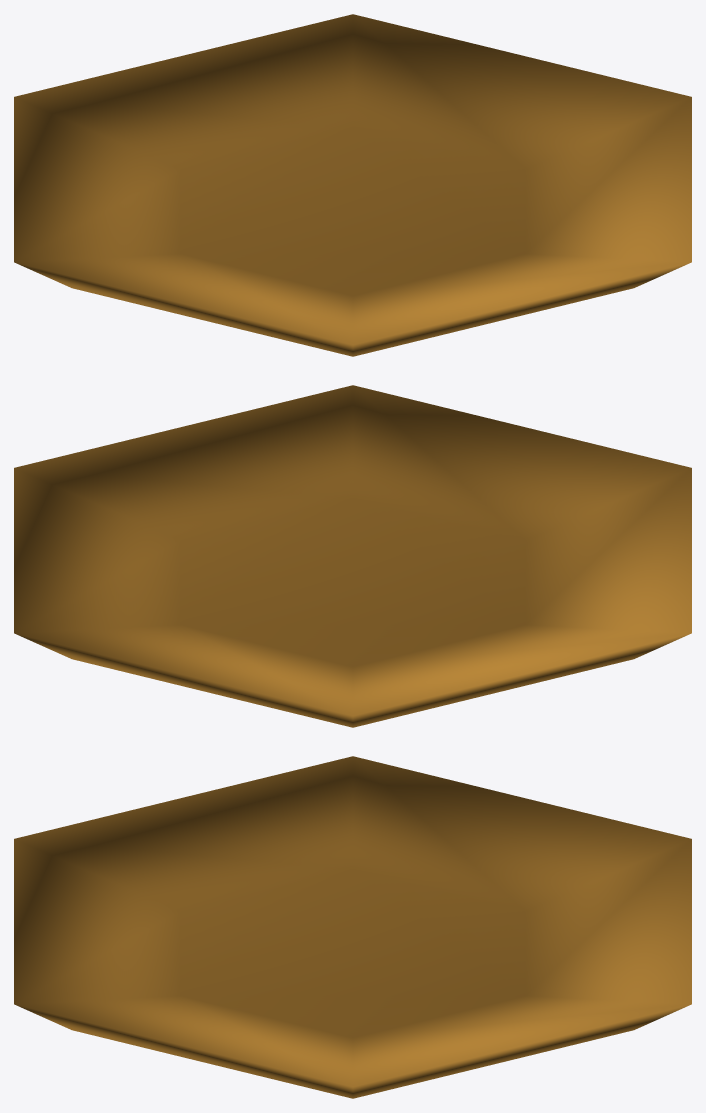
The model's file is obj_plateBig_LOW.FBX.
3 views of the same model, one above another, from view 1: azimuth 30°, elevation 25°; view 2: azimuth 150°, elevation 25°; view 3: azimuth 270°, elevation 25° (orthographic).
Parts seen in each view (by area): view 1: obj_plateBig_LOW; view 2: obj_plateBig_LOW; view 3: obj_plateBig_LOW.
Boxes of the visible parts, x1,y1,x2,y2 form: obj_plateBig_LOW: [14, 14, 691, 356]; obj_plateBig_LOW: [14, 385, 691, 727]; obj_plateBig_LOW: [14, 756, 691, 1098].
Size of the model in its own units: 1.85 by 0.2636 by 1.6.
